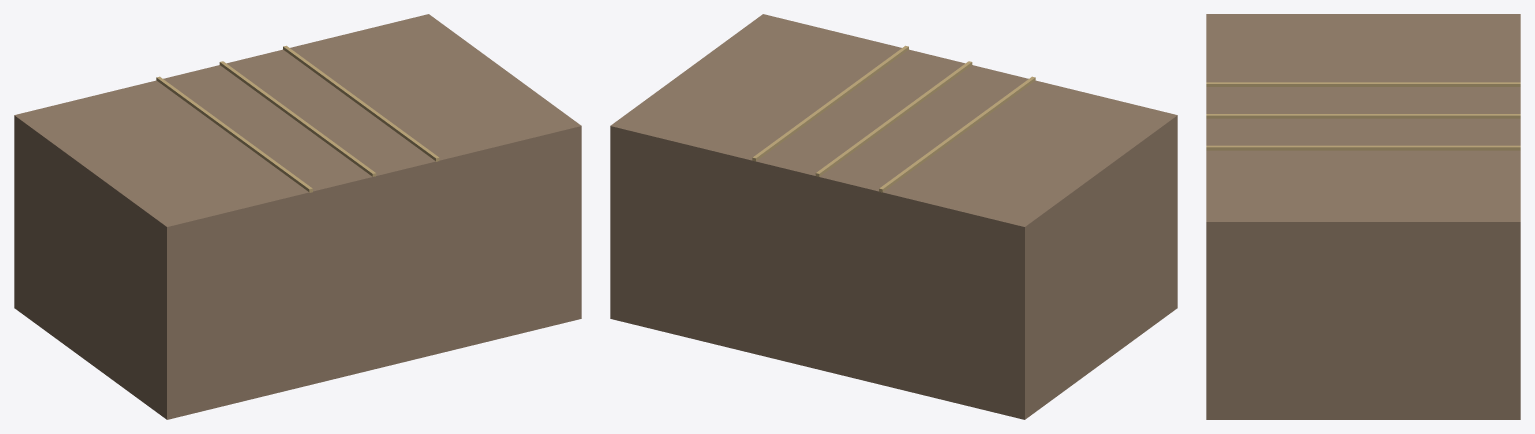
The model's file is PR-ARCHIVEBOX.glb.
3 views of the same model, side by side, from view 1: azimuth 30°, elevation 25°; view 2: azimuth 150°, elevation 25°; view 3: azimuth 270°, elevation 25° (orthographic). The views are drawn at different scales.
Visible parts, largest first — view 1: box, copper_inlay (×3); view 2: box, copper_inlay (×3); view 3: box, copper_inlay (×3).
Part boxes in pixels (x1,y1,x2,y2): box: [14, 14, 581, 419]; copper_inlay (×3): [156, 45, 439, 192]; box: [610, 14, 1177, 419]; copper_inlay (×3): [752, 45, 1035, 192]; box: [1206, 14, 1520, 419]; copper_inlay (×3): [1206, 82, 1520, 150].
Size of the model in its own units: 0.36 by 0.1625 by 0.23.
